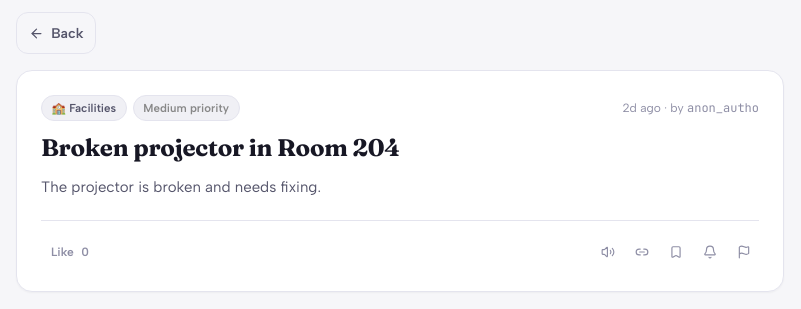
Test: PostDetail — read aloud › stops reading when the stop control is clicked
The image size is (801, 309).
Expected: the heading "Broken projector in Room 204" is shown, 41,134 -> 400,162
Step 1. Click the button named "Read aloud" → (608, 252), box 593,237 -> 623,267
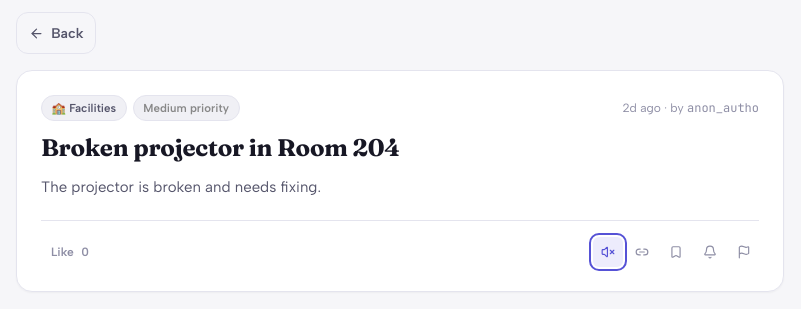
Step 2. Click the button named "Stop reading" → (608, 252), box 593,237 -> 623,267
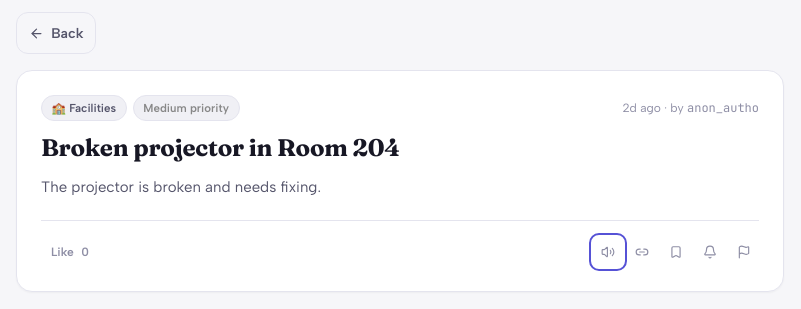
Now the button named "Read aloud" is shown, box 593,237 -> 623,267
